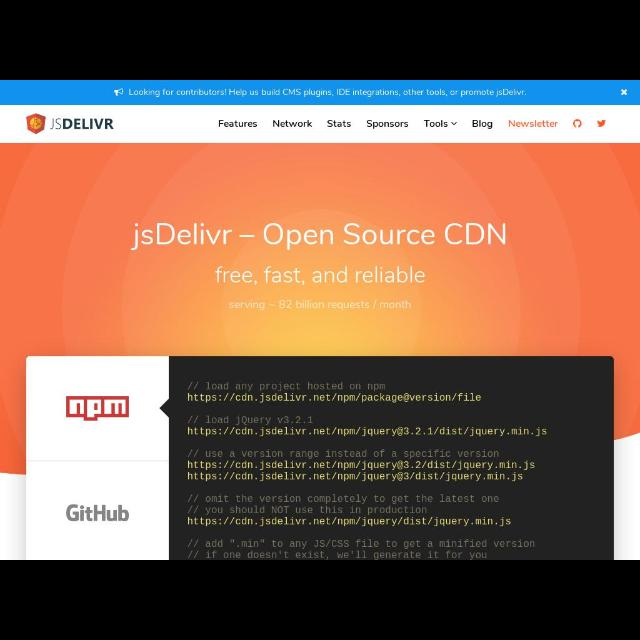backgroundimage: (1, 143, 640, 474)
icon: (596, 120, 606, 128), (114, 88, 124, 96), (574, 120, 582, 128), (620, 89, 628, 95), (451, 121, 457, 125)
iframe: (1, 80, 640, 106)
image: (168, 356, 614, 560), (26, 114, 114, 134), (65, 396, 128, 420), (65, 504, 129, 522)
spinner: (422, 117, 460, 129)
text: (130, 222, 506, 286), (130, 89, 528, 98), (229, 300, 411, 310), (367, 120, 409, 128), (218, 119, 258, 127), (274, 119, 312, 127), (508, 120, 558, 126), (327, 119, 351, 127), (424, 119, 448, 127), (472, 120, 492, 128)
toolbar: (1, 105, 640, 143)
